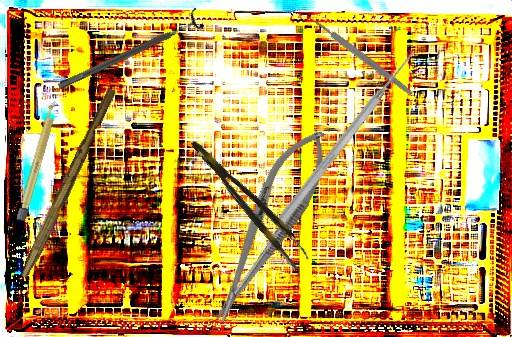Fixation Ring: (53, 6, 206, 98)
Needle Holder: (196, 119, 342, 332)
Pusher: (274, 47, 420, 227)
Scalpel Handle: (19, 85, 118, 282), (312, 17, 415, 98), (16, 100, 60, 222)
Tissue Forceps: (188, 130, 313, 272)
